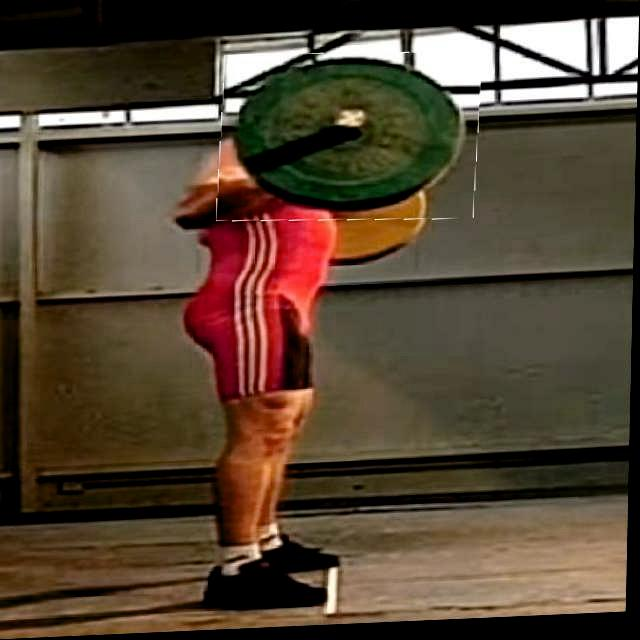barbell: (220, 51, 482, 231)
